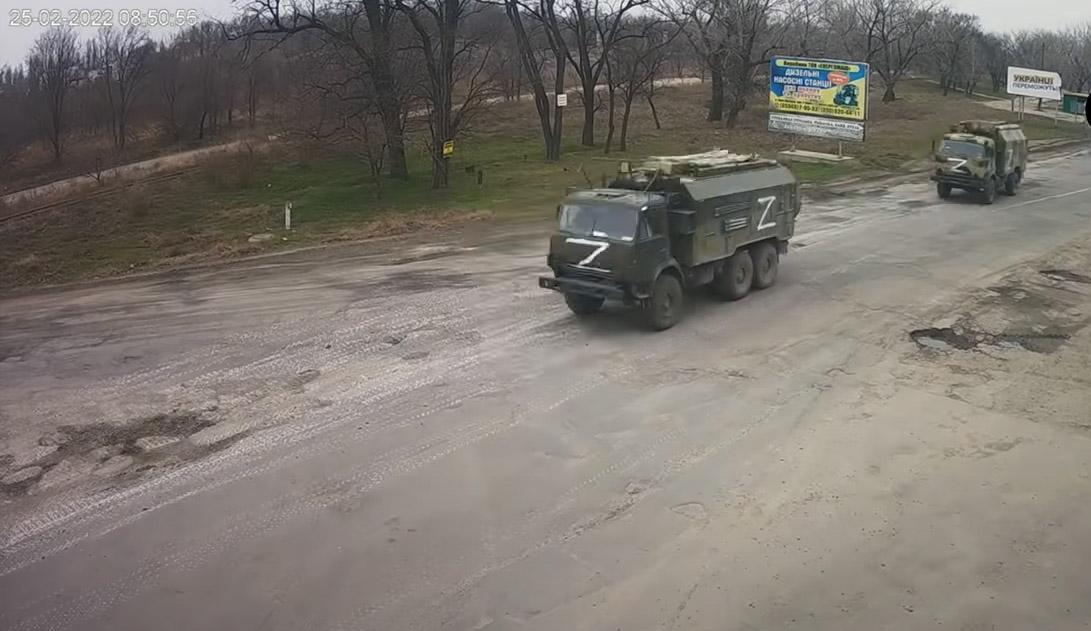truck: (527, 142, 810, 330), (931, 115, 1036, 206)
